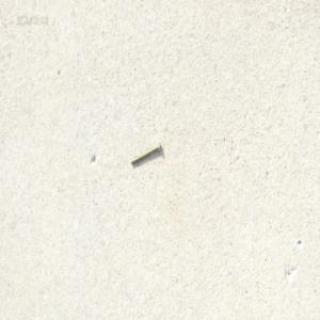Bolttrack_idkeyframe: (129, 140, 160, 164)
